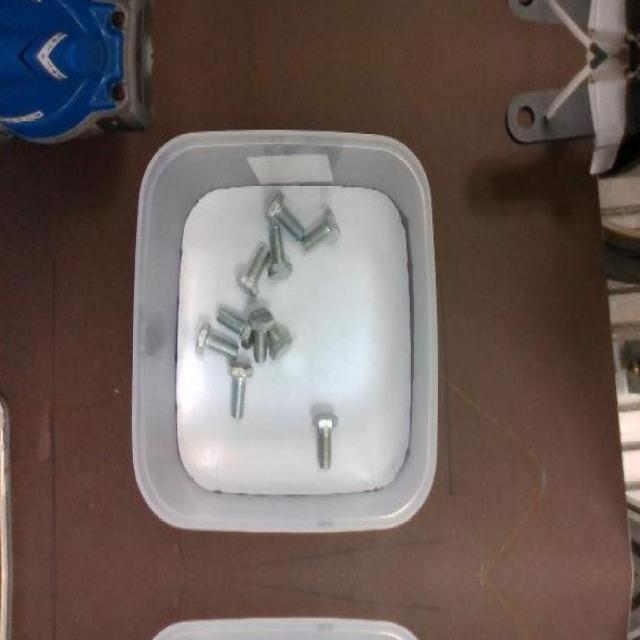screw: (265, 191, 306, 242), (236, 245, 271, 298), (300, 206, 340, 252), (196, 321, 239, 362), (228, 361, 254, 417), (248, 308, 274, 363), (268, 225, 294, 279), (314, 412, 339, 468)
